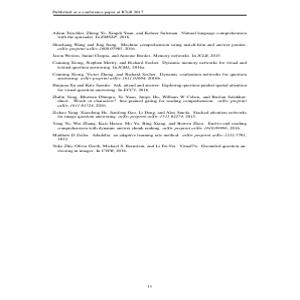text: (45, 28, 255, 159)
